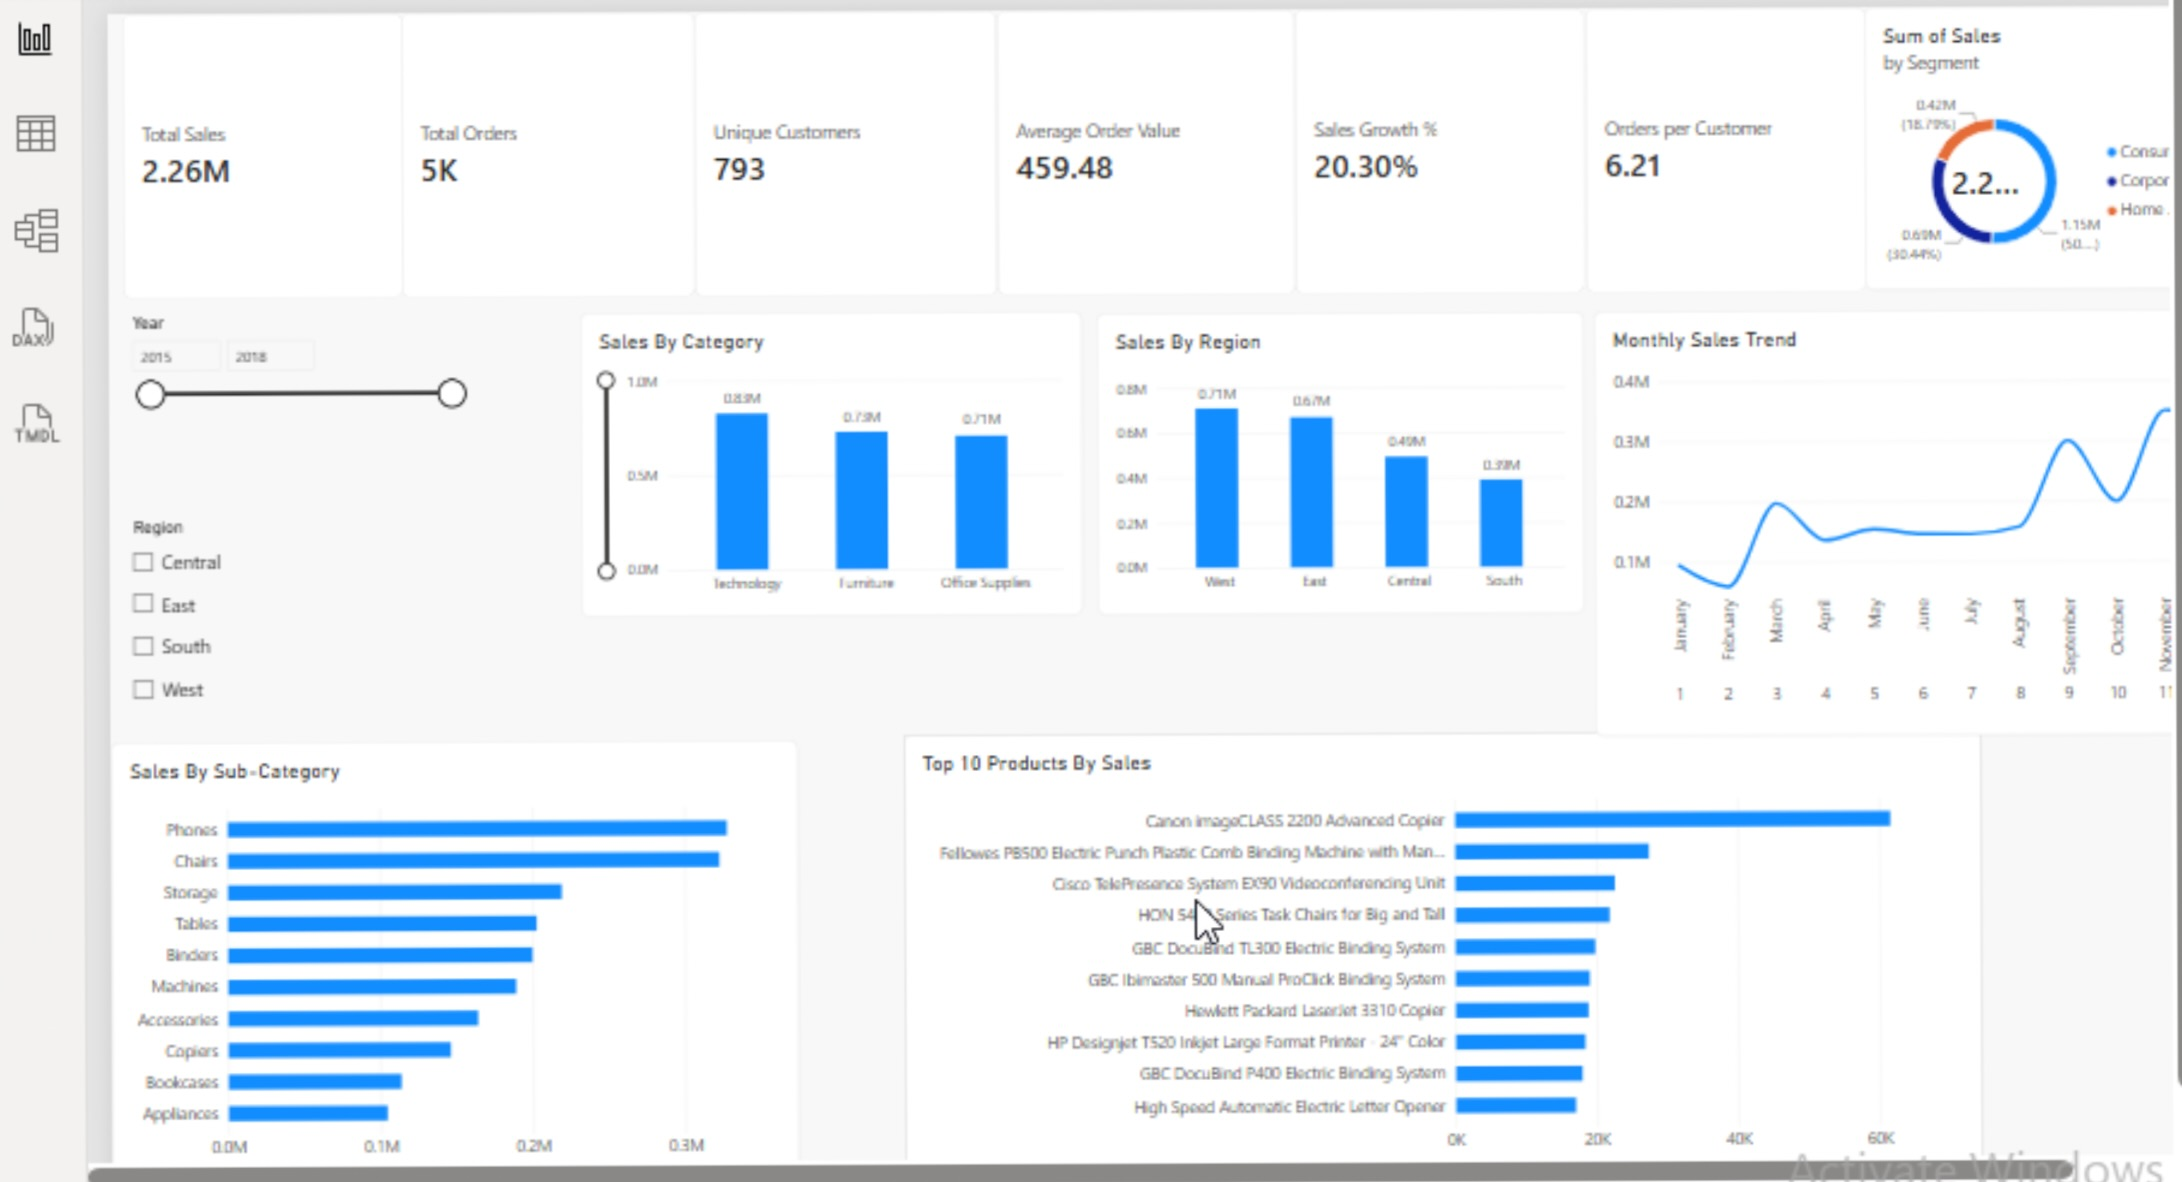

What the dashboard file says about the page in this screenshot:
{"tool":"powerbi","page":{"name":"Page 1","canvas":[1920,1080],"ordinal":0},"visuals":[{"type":"cardVisual","fields":{"Data":["Superstore_Sales_Cleaned 1.Total Sales"]},"box":[12,0,248,252],"z":0},{"type":"cardVisual","fields":{"Data":["Superstore_Sales_Cleaned 1.Total Orders"]},"box":[260,0,260,252],"z":1},{"type":"cardVisual","fields":{"Data":["Superstore_Sales_Cleaned 1.Unique Customers"]},"box":[520,0,268,252],"z":2},{"type":"cardVisual","fields":{"Data":["Superstore_Sales_Cleaned 1.Average Order Value"]},"box":[788,0,264,252],"z":3},{"type":"cardVisual","fields":{"Data":["Superstore_Sales_Cleaned 1.Sales Growth %"]},"box":[1052,0,256,252],"z":4},{"type":"cardVisual","fields":{"Data":["Superstore_Sales_Cleaned 1.Orders per Customer"]},"box":[1308,0,248,252],"z":5},{"type":"slicer","fields":{"Values":["Superstore_Sales_Cleaned 1.Order Date.Variation.Date Hierarchy.Year"]},"box":[12.8,266,306.4,144.7],"z":6},{"type":"slicer","fields":{"Values":["Superstore_Sales_Cleaned 1.Region"]},"box":[12.8,446.8,248.7,194.2],"z":7},{"type":"clusteredColumnChart","title":"Sales By Category","fields":{"Category":["Superstore_Sales_Cleaned 1.Category"],"Y":["Sum(Superstore_Sales_Cleaned 1.Sales)"]},"box":[417,266,444.7,270.2],"z":8},{"type":"donutChart","fields":{"Category":["Superstore_Sales_Cleaned 1.Segment"],"Y":["Sum(Superstore_Sales_Cleaned 1.Sales)"]},"box":[1554.3,0,315.4,251.4],"z":9},{"type":"clusteredColumnChart","title":"Sales By Region","fields":{"Category":["Superstore_Sales_Cleaned 1.Region"],"Y":["Sum(Superstore_Sales_Cleaned 1.Sales)"]},"box":[874.5,268.1,431.9,268.1],"z":10},{"type":"clusteredBarChart","title":"Sales By Sub-Category","fields":{"Category":["Superstore_Sales_Cleaned 1.Sub-Category"],"Y":["Sum(Superstore_Sales_Cleaned 1.Sales)"]},"box":[0,644.7,608.5,391.5],"z":11},{"type":"clusteredBarChart","title":"Top 10 Products By Sales","fields":{"Category":["Superstore_Sales_Cleaned 1.Product Name"],"Y":["Sum(Superstore_Sales_Cleaned 1.Sales)"]},"box":[702.1,640.4,955.4,393.1],"z":12},{"type":"lineChart","title":"Monthly Sales Trend","fields":{"Category":["Superstore_Sales_Cleaned 1.Month Number","Superstore_Sales_Cleaned 1.Month"],"Y":["Sum(Superstore_Sales_Cleaned 1.Sales)"]},"box":[1314.9,268.1,583,376.6],"z":13}]}

Visuals, with their boxes on the page's 1920x1080 design canvas (x1, y1, x2, y2). These are canvas units, not pixel positions in the 2182x1182 screenshot, which may show the page scaled, cropped or inside an application window:
cardVisual - Superstore_Sales_Cleaned 1.Total Sales: detection(12, 0, 260, 252)
cardVisual - Superstore_Sales_Cleaned 1.Total Orders: detection(260, 0, 520, 252)
cardVisual - Superstore_Sales_Cleaned 1.Unique Customers: detection(520, 0, 788, 252)
cardVisual - Superstore_Sales_Cleaned 1.Average Order Value: detection(788, 0, 1052, 252)
cardVisual - Superstore_Sales_Cleaned 1.Sales Growth %: detection(1052, 0, 1308, 252)
cardVisual - Superstore_Sales_Cleaned 1.Orders per Customer: detection(1308, 0, 1556, 252)
slicer - Superstore_Sales_Cleaned 1.Order Date.Variation.Date Hierarchy.Year: detection(13, 266, 319, 411)
slicer - Superstore_Sales_Cleaned 1.Region: detection(13, 447, 262, 641)
"Sales By Category" clusteredColumnChart: detection(417, 266, 862, 536)
donutChart - Superstore_Sales_Cleaned 1.Segment x Sum(Superstore_Sales_Cleaned 1.Sales): detection(1554, 0, 1870, 251)
"Sales By Region" clusteredColumnChart: detection(874, 268, 1306, 536)
"Sales By Sub-Category" clusteredBarChart: detection(0, 645, 608, 1036)
"Top 10 Products By Sales" clusteredBarChart: detection(702, 640, 1658, 1034)
"Monthly Sales Trend" lineChart: detection(1315, 268, 1898, 645)
